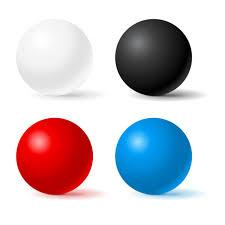Red_Ball: (9, 107, 98, 205)
